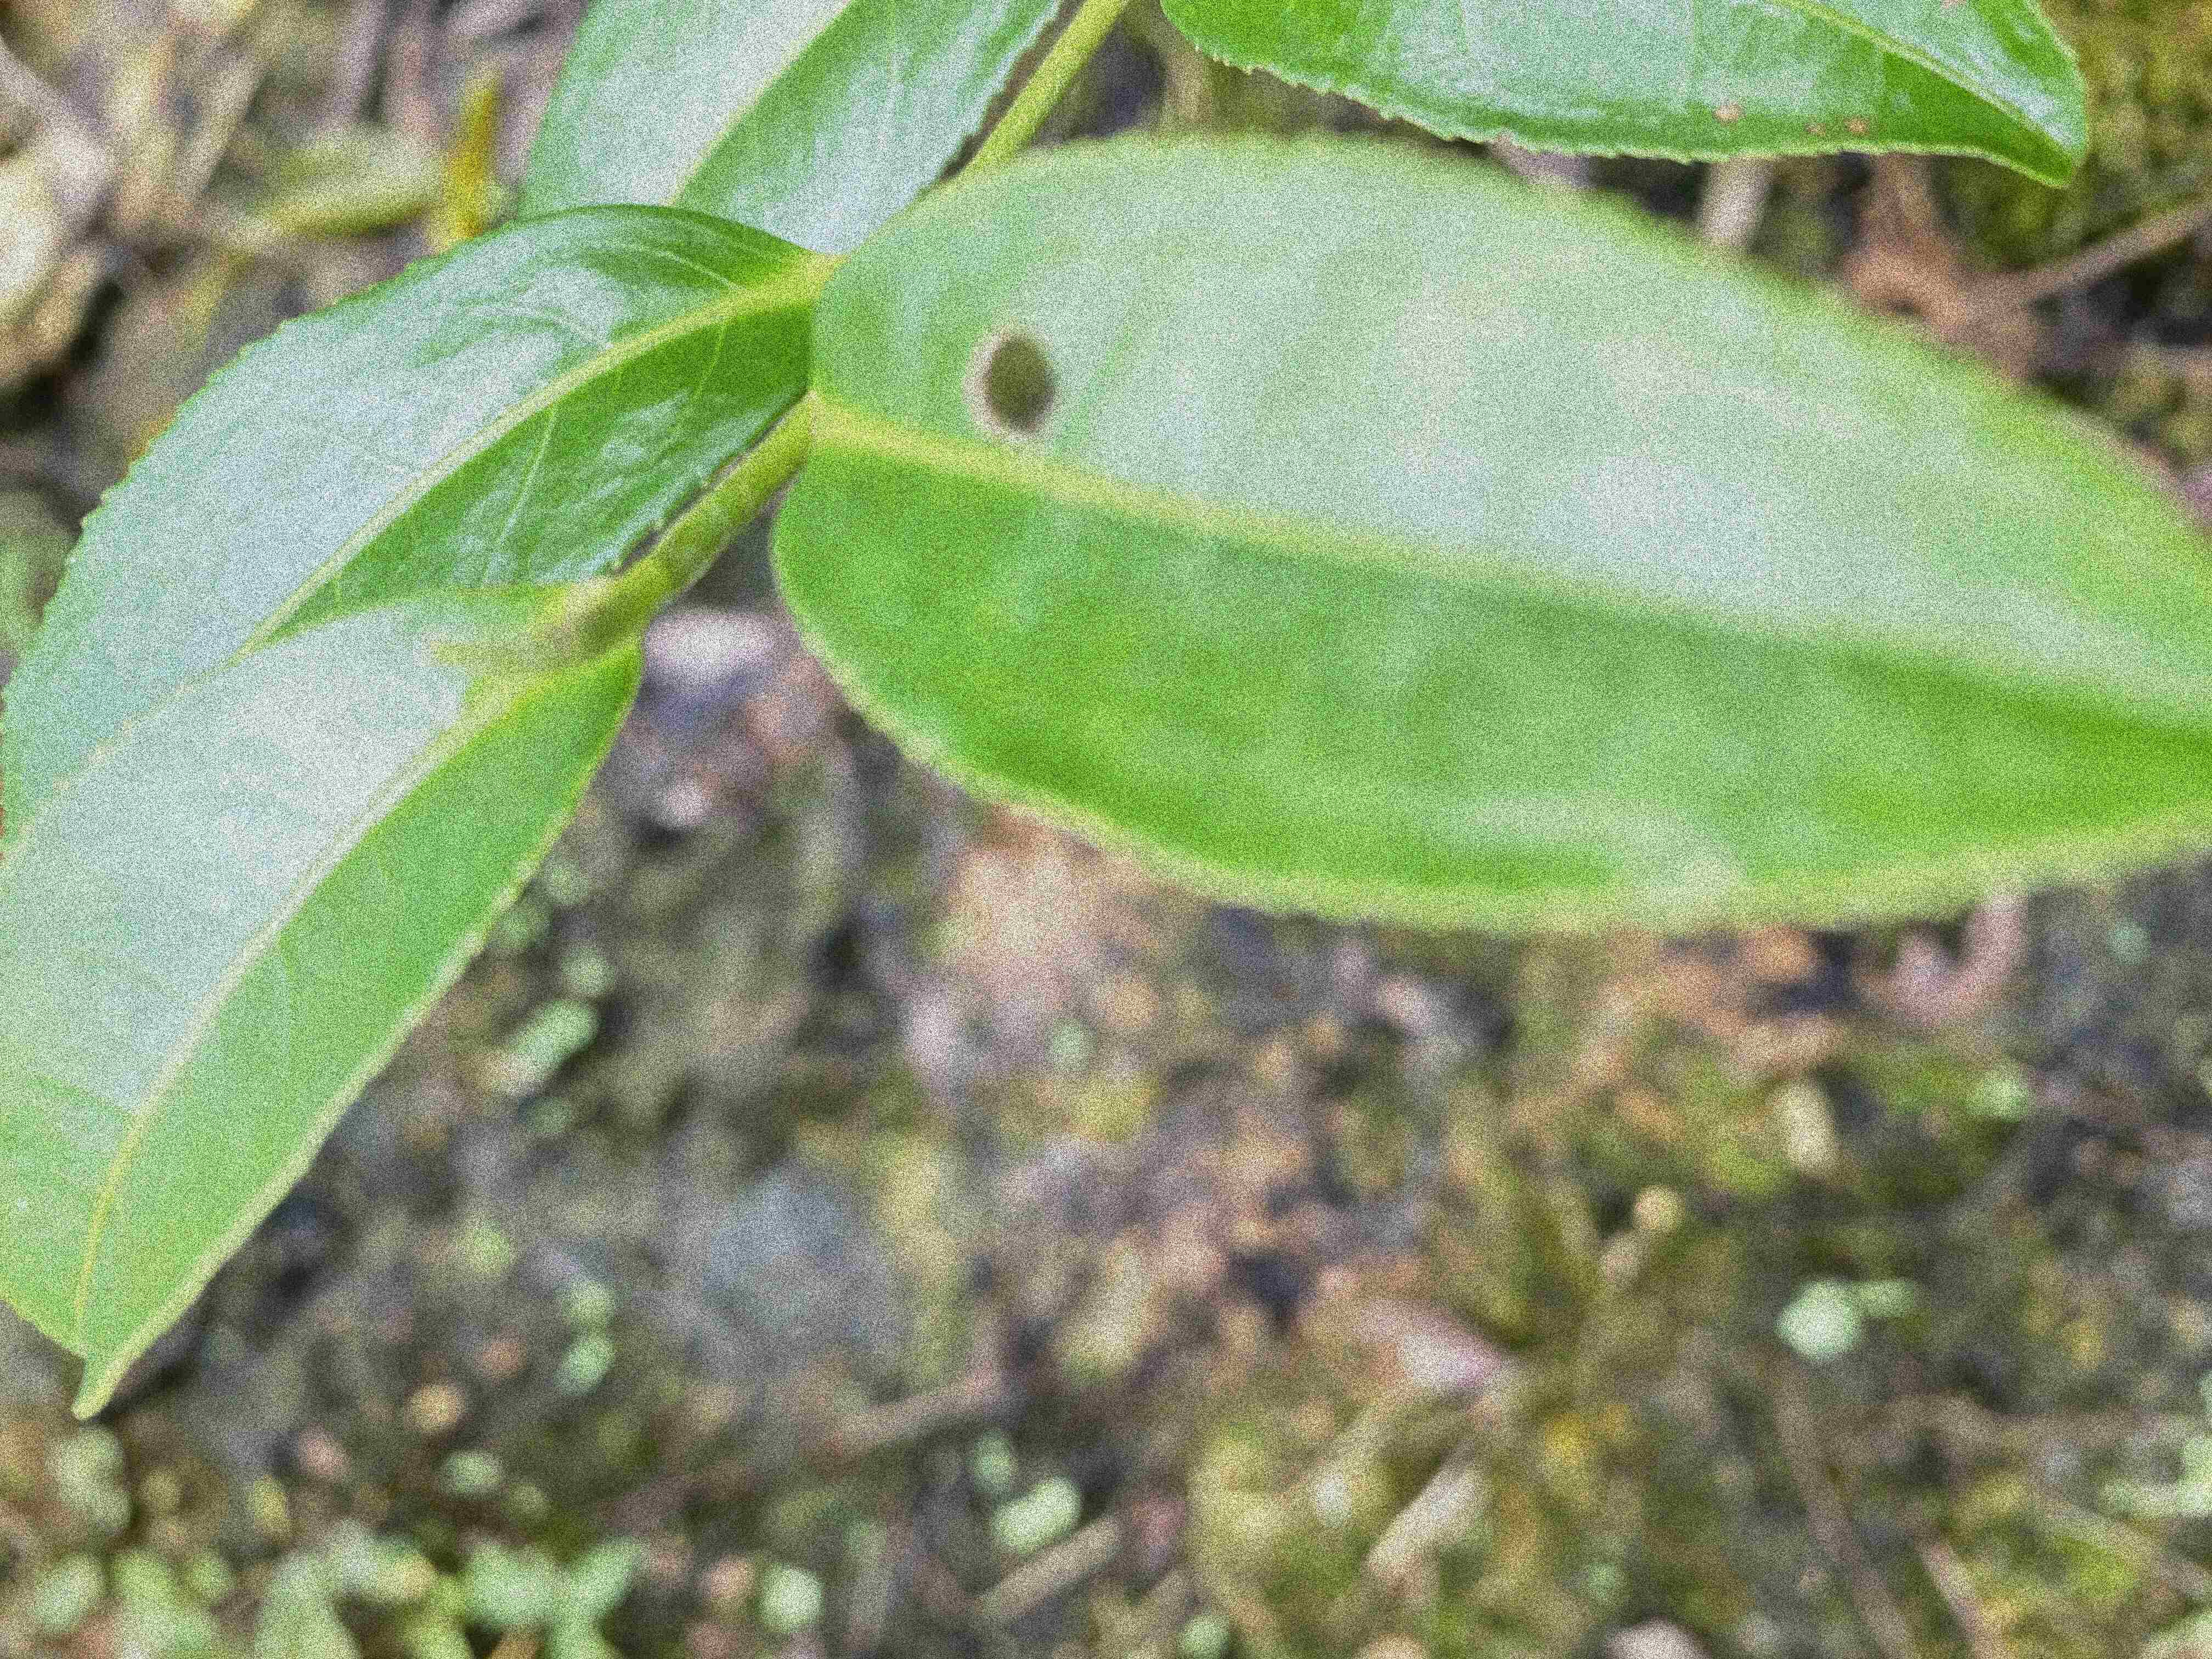chihuo_low: (770, 134, 2212, 936)
healthy: (3, 579, 648, 1419), (5, 214, 808, 821), (510, 2, 1057, 254)
tanju_low: (1160, 0, 2094, 190)
